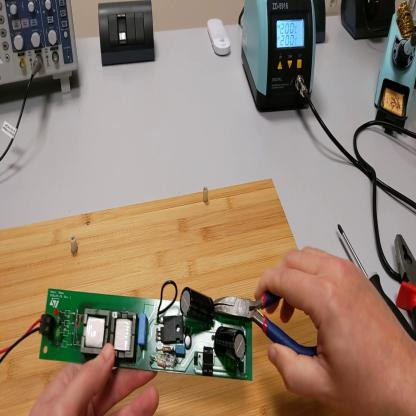hand: (252, 244, 410, 416), (31, 344, 159, 415)
high voltage board: (1, 281, 256, 380)
oscilloscope: (1, 2, 80, 106)
pliers: (212, 288, 317, 353), (395, 232, 416, 327)
screwdriver-: (335, 223, 413, 339)
socket: (341, 3, 397, 41), (316, 3, 327, 44)
welder base: (375, 6, 416, 141)
welder probe tip: (399, 36, 414, 67)
welder station: (242, 3, 317, 117)
working area: (2, 179, 326, 416)
